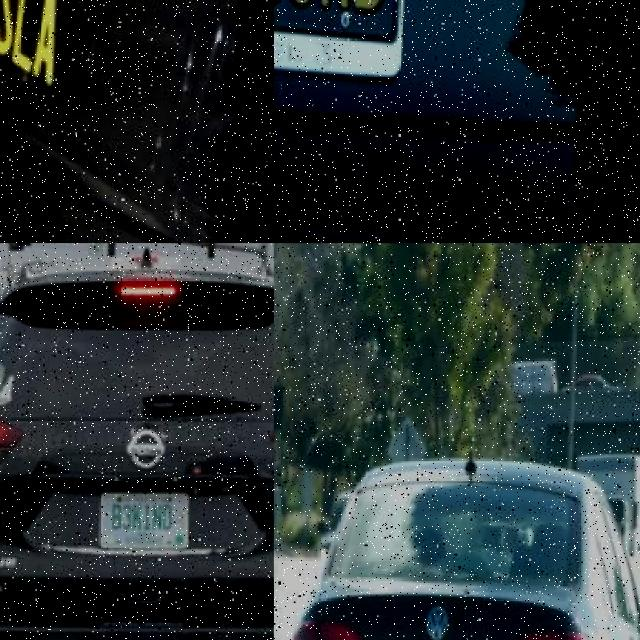licenseplate: (274, 0, 415, 154), (0, 0, 87, 132), (97, 493, 190, 551)
